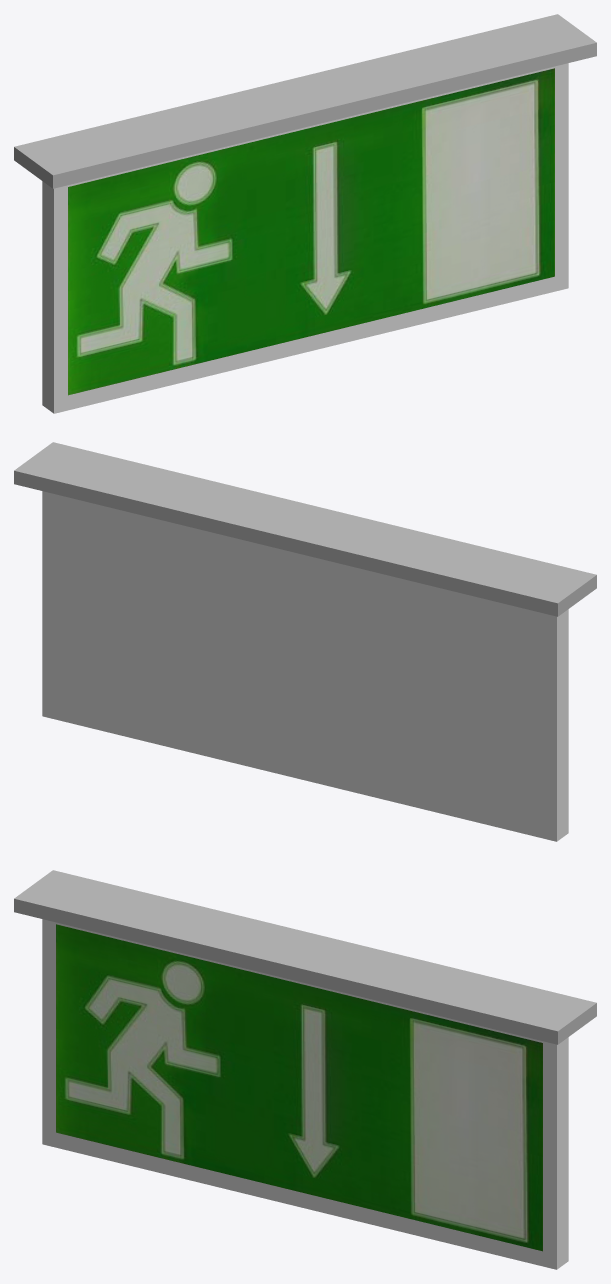
File: Sign.fbx
The picture shows the model from 3 angles, top to bottom: view 1: azimuth 30°, elevation 25°; view 2: azimuth 150°, elevation 25°; view 3: azimuth 330°, elevation 25°; orthographic projection.
Parts seen in each view (by area): view 1: Cube; view 2: Cube; view 3: Cube.
Part boxes in pixels (x1=…): Cube: x1=14, y1=14, x2=596, y2=413; Cube: x1=14, y1=442, x2=596, y2=841; Cube: x1=14, y1=870, x2=596, y2=1269.
Bounding box in the file's own units: 157 × 69.64 × 19.56.
3 materials, 1 textured.
